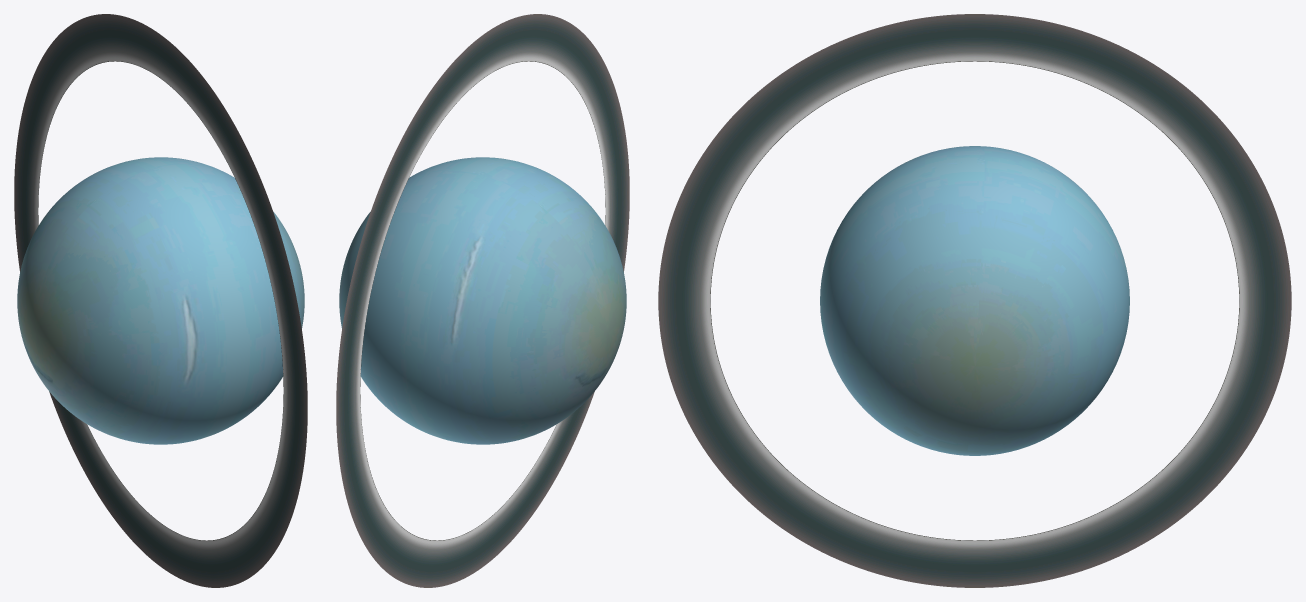
File: Uranus.fbx
The picture shows the model from 3 angles, left to right: view 1: azimuth 30°, elevation 25°; view 2: azimuth 150°, elevation 25°; view 3: azimuth 270°, elevation 25°; orthographic projection. The views are drawn at different scales.
Parts seen in each view (by area): view 1: node_id82, node_id84; view 2: node_id82, node_id84; view 3: node_id84, node_id82.
Part boxes in pixels (x1,y1,x2,y2): node_id82: (17,157,304,444); node_id84: (14,14,307,587); node_id82: (339,157,626,444); node_id84: (336,14,629,587); node_id84: (658,14,1291,587); node_id82: (820,146,1129,455).
Bounding box in the file's own units: 20.65 × 42.19 × 42.19.
